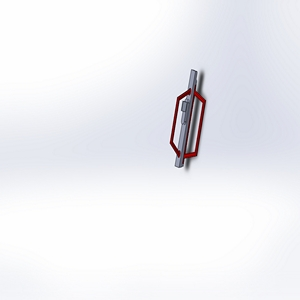submarine: (148, 60, 220, 185)
